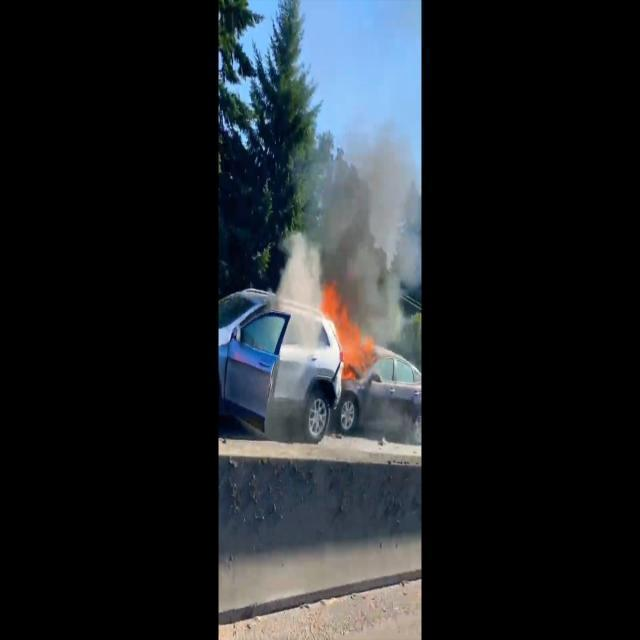fire: (316, 276, 376, 398)
